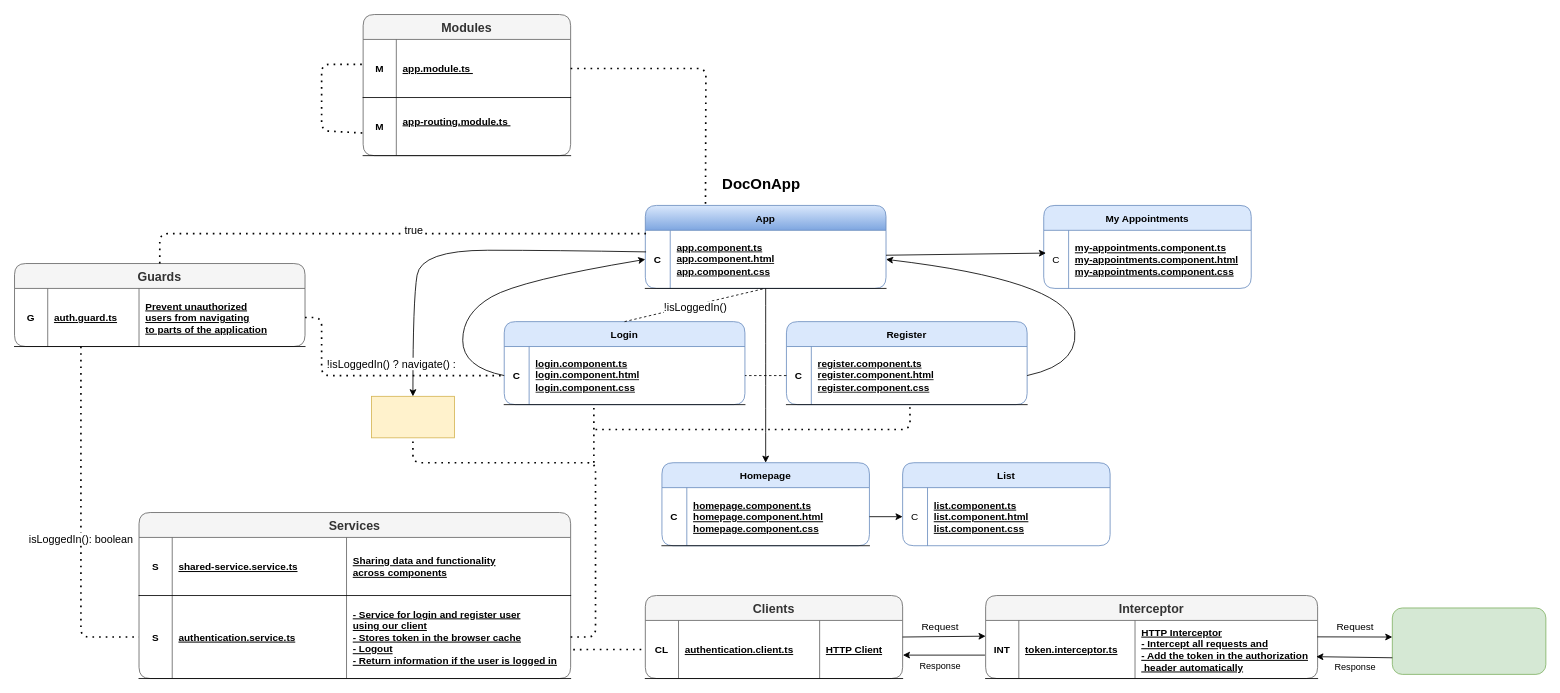
Some shapes in this 1560 by 693 pixel diagram are drawn without their labels. Each missing label, with the centre of its shape:
JSON Server: (1468,640)
Logout: (412,416)
